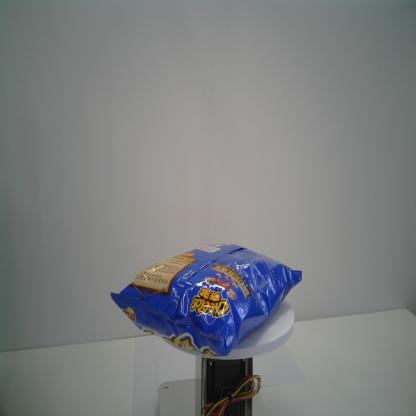Puffed Food: (108, 242, 303, 358)
